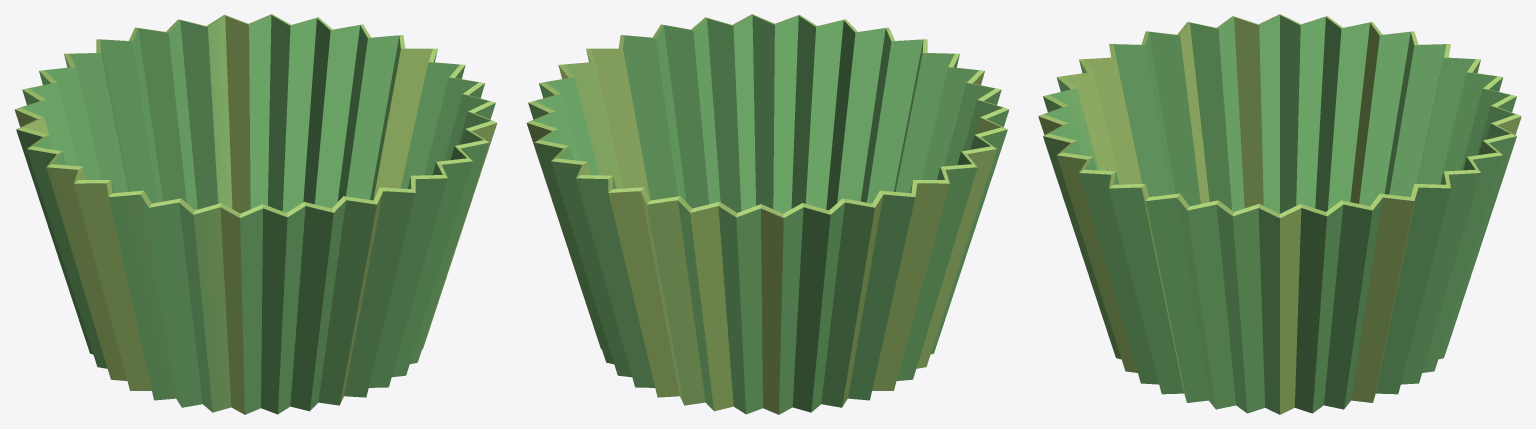
Rendered from cupcake.obj.
3 renders of one model, left to right at view 1: azimuth 30°, elevation 25°; view 2: azimuth 150°, elevation 25°; view 3: azimuth 270°, elevation 25°, orthographic.
Parts seen in each view (by area): view 1: cupcake.001; view 2: cupcake.001; view 3: cupcake.001.
Part boxes in pixels (box(x1,y1,x2,y2)): cupcake.001: box(14, 14, 497, 414); cupcake.001: box(526, 14, 1009, 414); cupcake.001: box(1038, 14, 1521, 414).
Size of the model in its own units: 0.072 by 0.0378 by 0.072.
